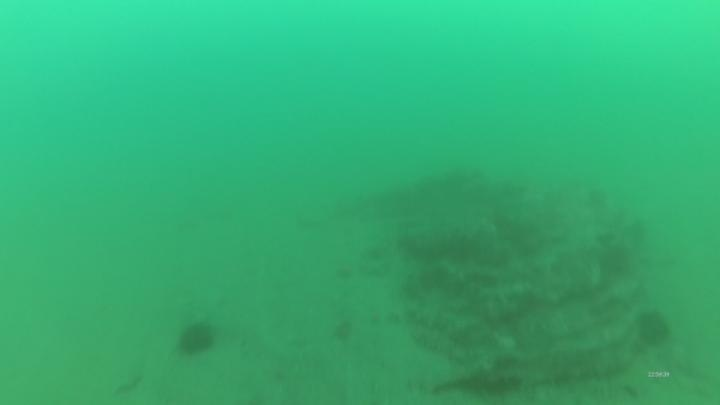echinus: (174, 318, 219, 360), (632, 307, 674, 350), (596, 241, 634, 280), (330, 317, 356, 344)
